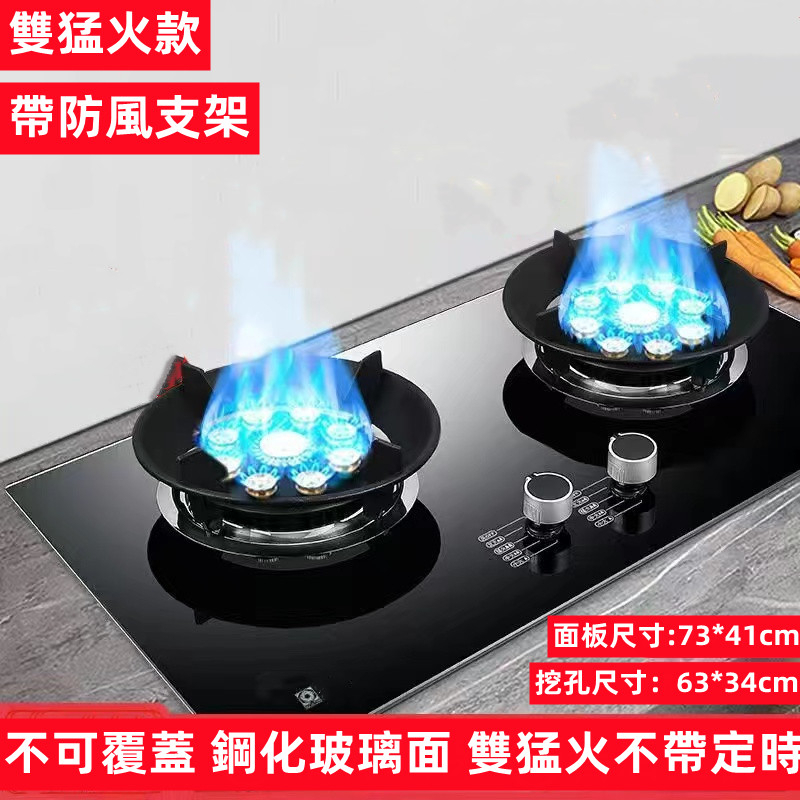gasoven: (3, 231, 800, 727)
